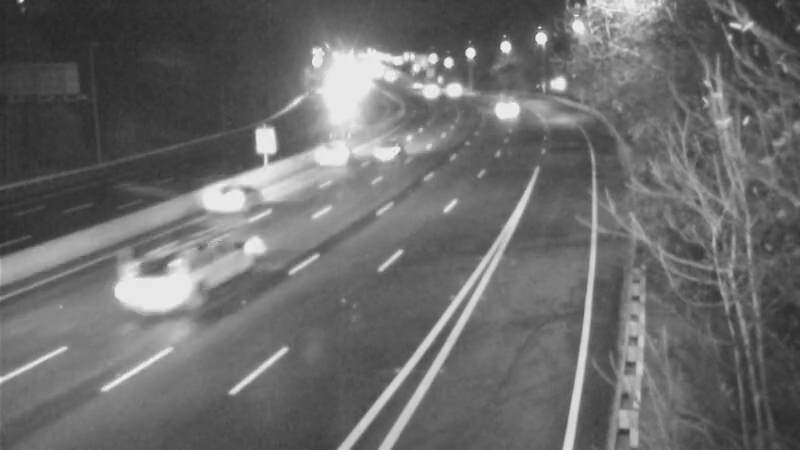vehicle: (300, 112, 380, 192), (175, 157, 255, 237), (112, 253, 192, 333), (427, 64, 477, 114), (402, 67, 452, 117), (475, 83, 525, 133), (368, 119, 418, 169)
